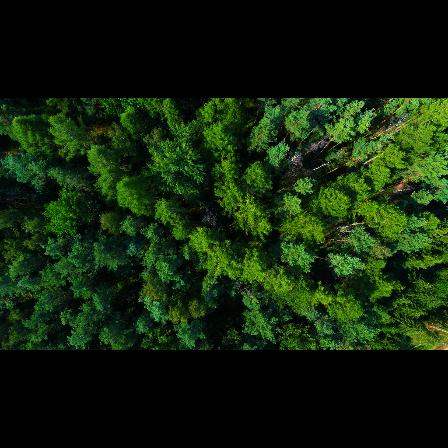Dead: (333, 215, 368, 237), (384, 112, 413, 133), (201, 206, 221, 225), (290, 149, 303, 173)
